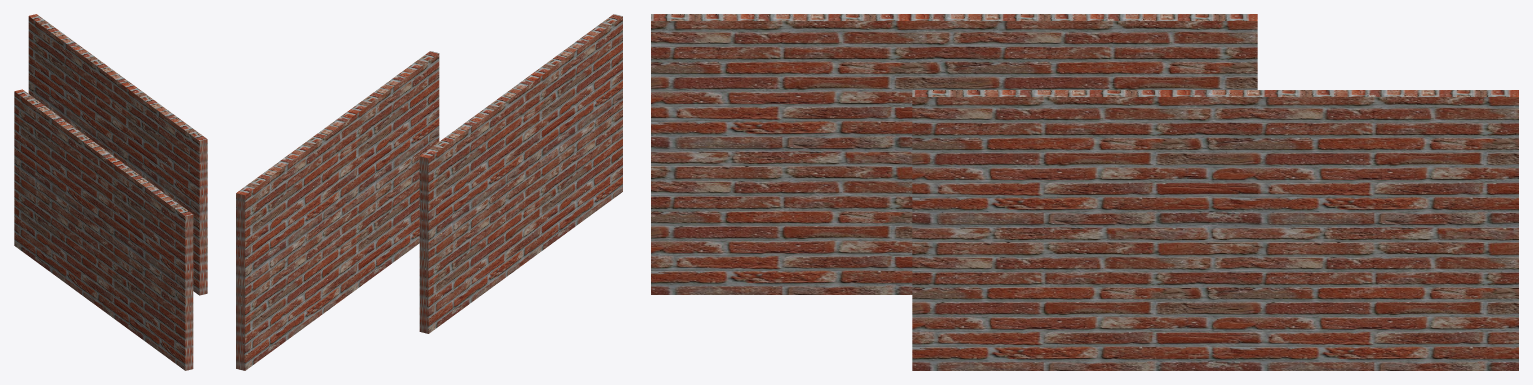
Rendered from WallRun.fbx.
3 views of the same model, side by side, from view 1: azimuth 30°, elevation 25°; view 2: azimuth 150°, elevation 25°; view 3: azimuth 270°, elevation 25° (orthographic). The views are drawn at different scales.
Parts seen in each view (by area): view 1: Cube.002, Cube.001; view 2: Cube.002, Cube.001; view 3: Cube.001, Cube.002.
Boxes of the visible parts, box(x1,y1,x2,y2) form: Cube.002: box(14, 89, 193, 370); Cube.001: box(28, 14, 207, 295); Cube.002: box(419, 14, 622, 333); Cube.001: box(236, 51, 439, 370); Cube.001: box(912, 90, 1518, 370); Cube.002: box(651, 14, 1257, 294).
Bounding box in the file's own units: 437 × 673 × 1932.
